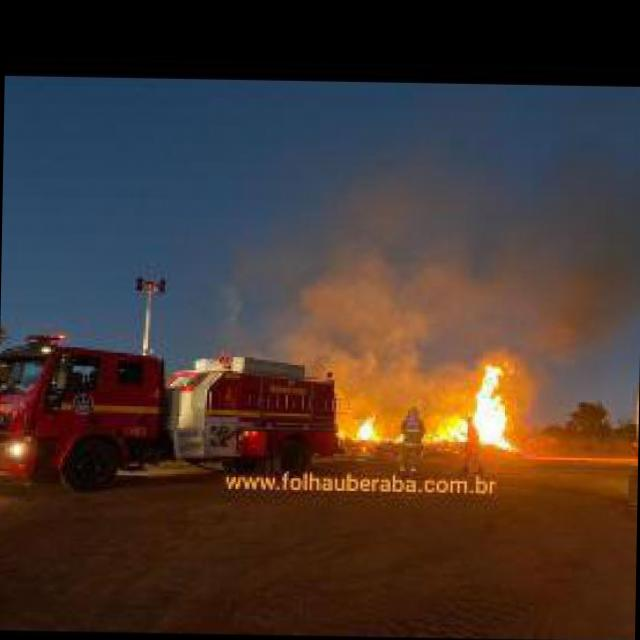fire: (436, 356, 524, 450), (354, 412, 382, 440), (393, 436, 402, 445)
smoke: (312, 135, 640, 353)
